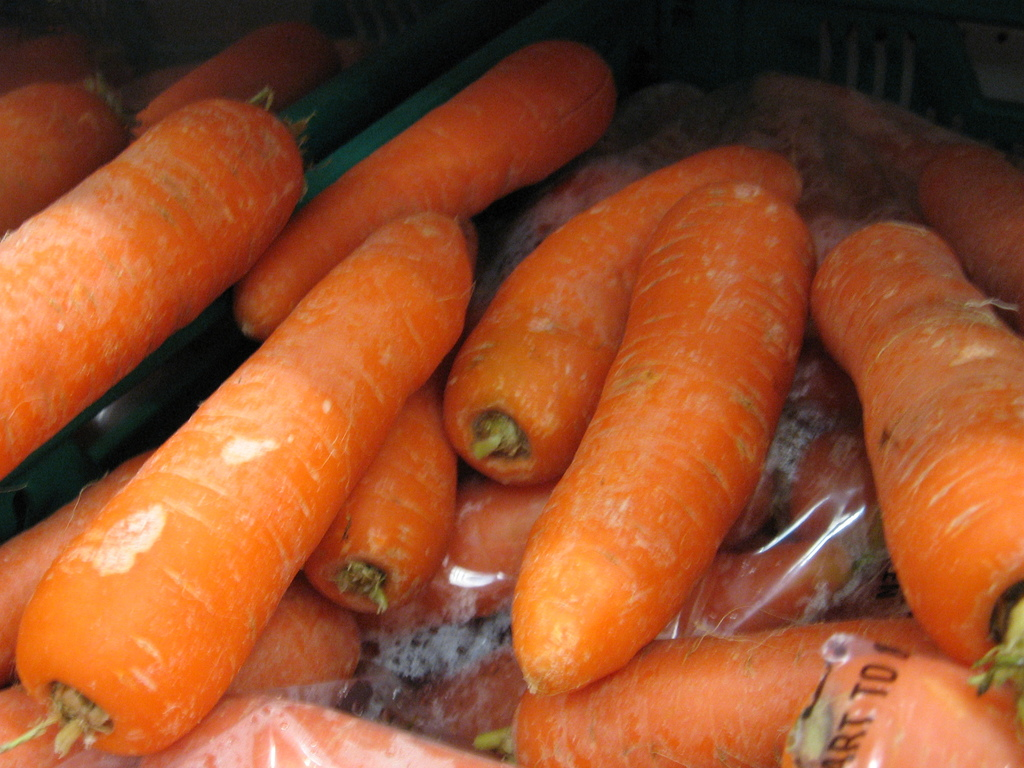Carrot: (1, 21, 1023, 764), (519, 174, 823, 695)
